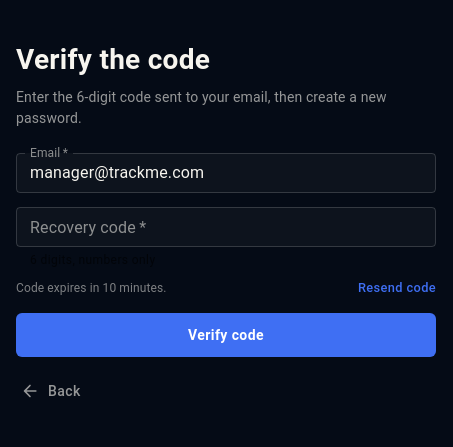
Test case: ForgotPasswordVerifyPage › shows an error inline if resending the code fails
Click the button "Resend code" at (397, 288), box [358, 277, 436, 299]
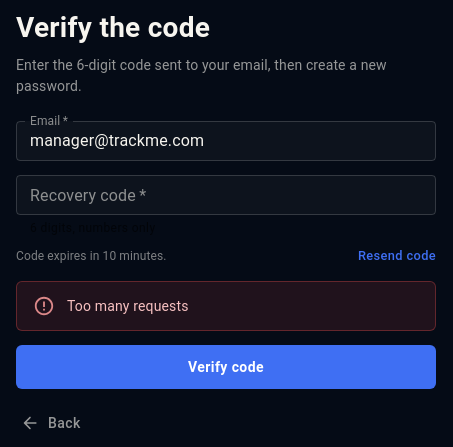
Expected: the text "Too many requests" is shown, [67, 298, 189, 314]
